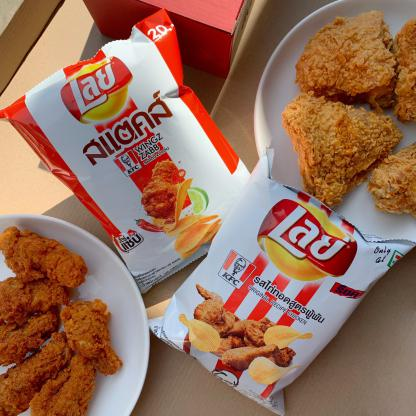potatochip: (0, 8, 259, 296), (146, 144, 416, 416)
